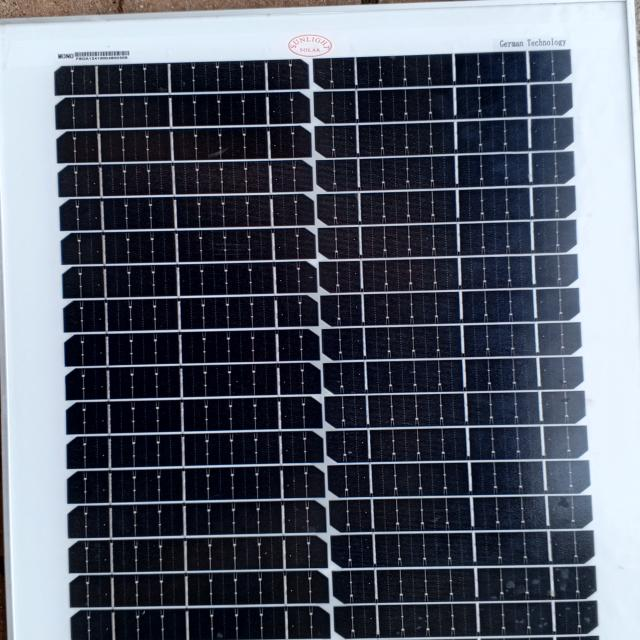Clean: (17, 39, 634, 640)
